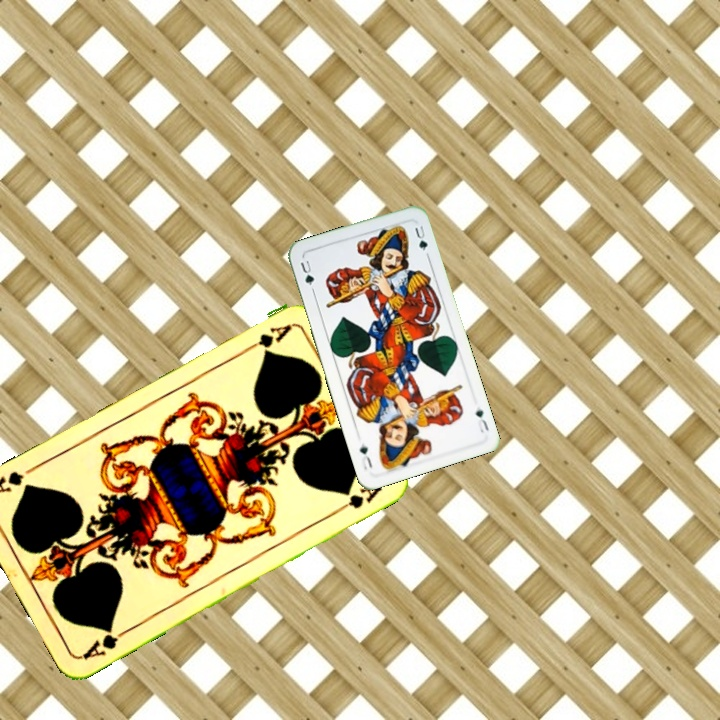GA: (79, 623, 133, 662), (239, 320, 295, 356)
GU: (296, 256, 317, 288), (471, 402, 491, 435)
